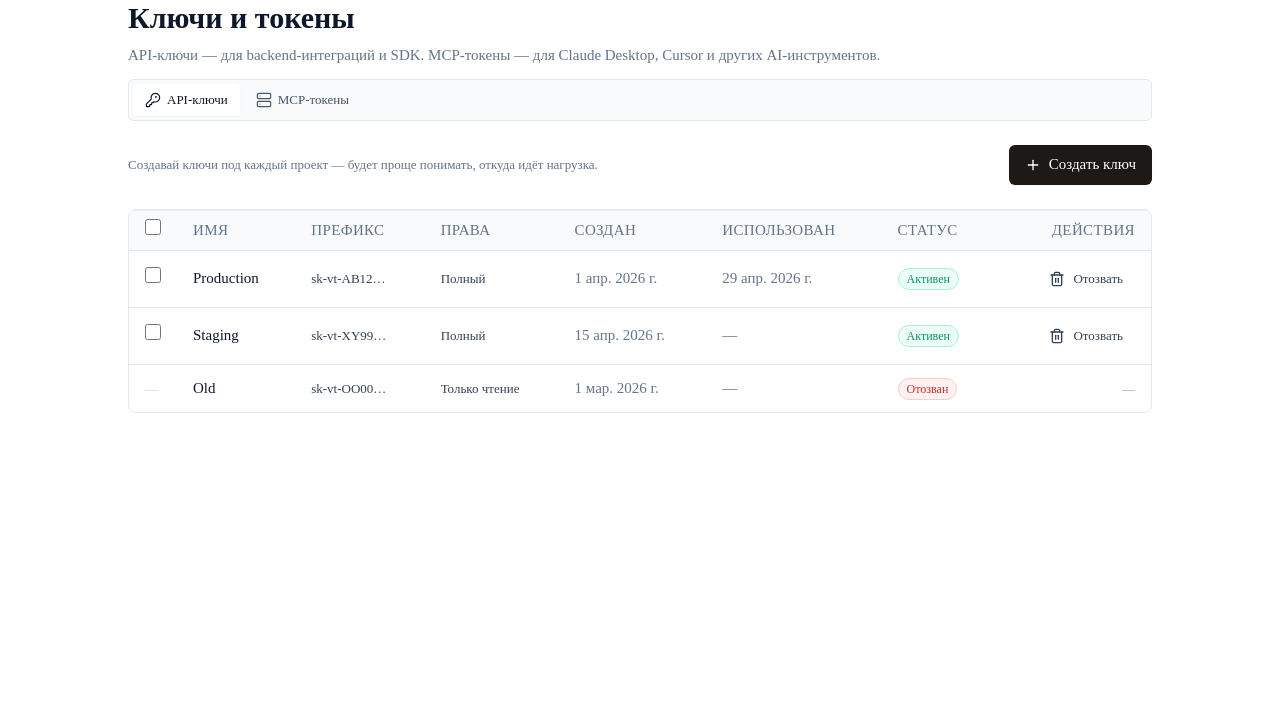
Test case: KeysPage bulk operations (Sprint 8) › rotate — confirm dialog с другим текстом
This screenshot has width=1280, height=720.
Click the checkbox with test id "select-key-k-1". click: (153, 275)
box: [145, 267, 161, 283]
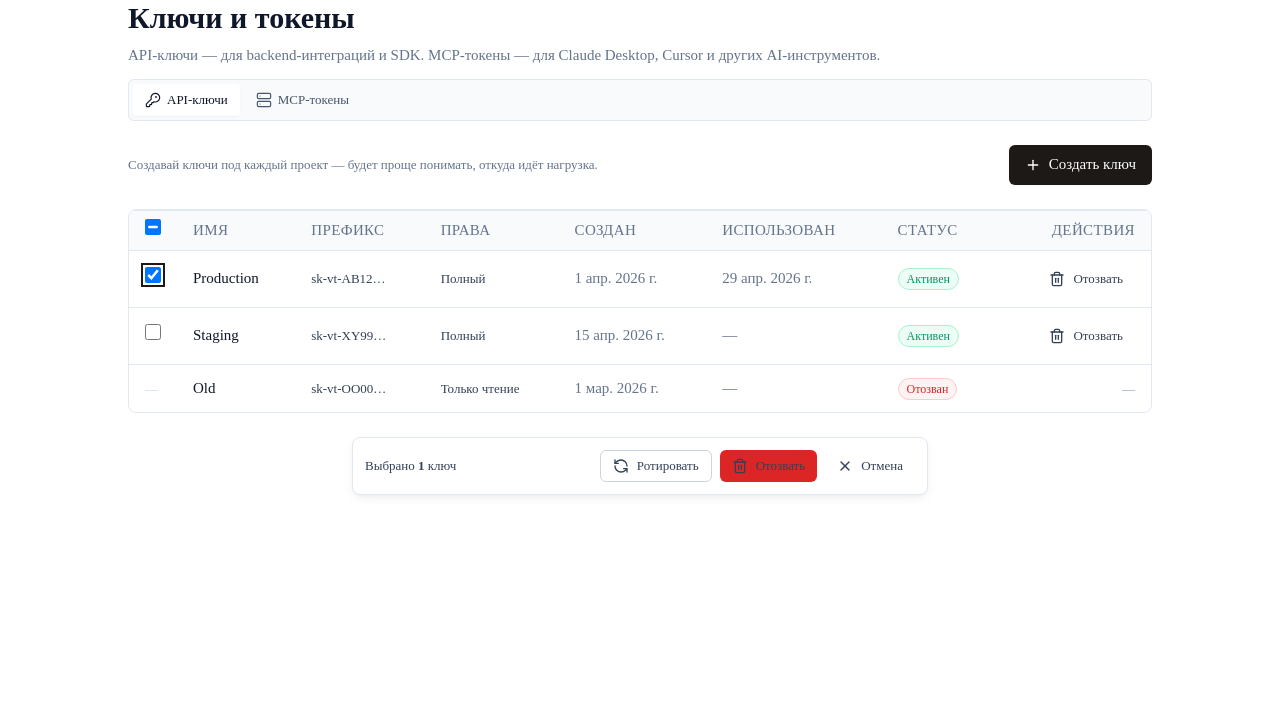
Click the button with test id "bulk-rotate". click: (656, 466)
box: [600, 450, 712, 482]
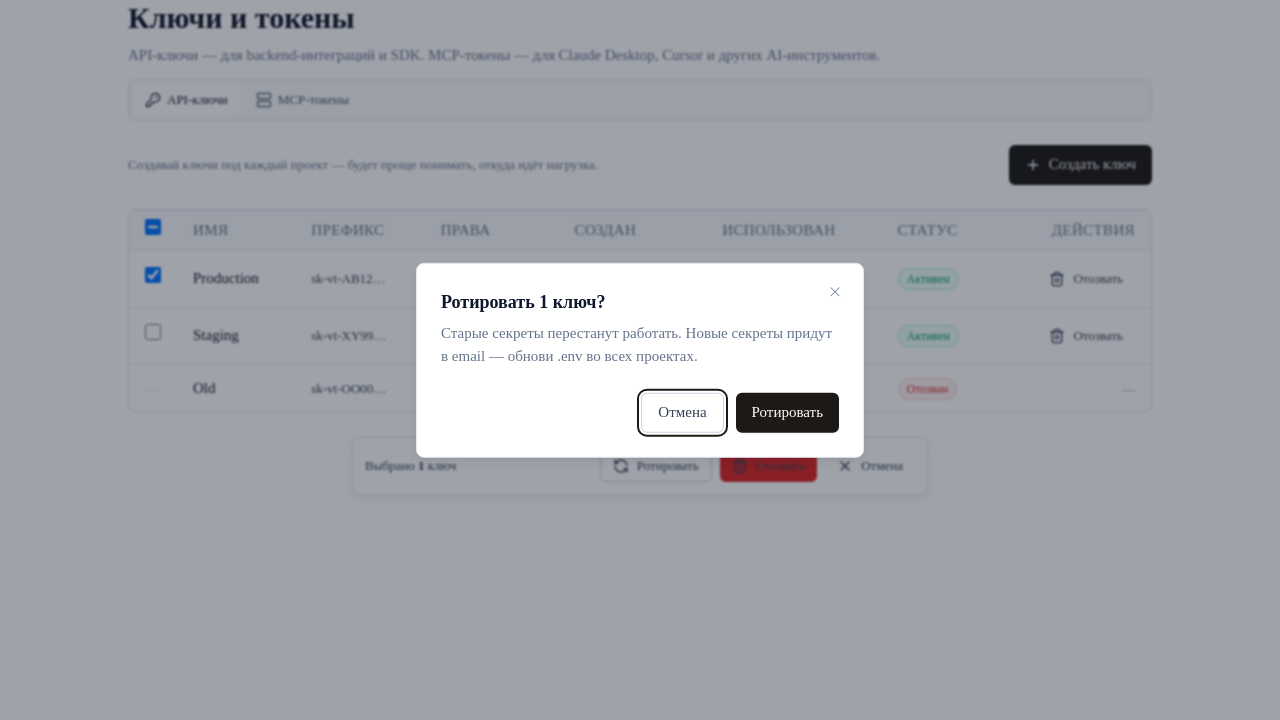
Expected: the heading "Ротировать 1 ключ?" is shown, [441, 292, 605, 312]
Expected: the text "обнови .env" is shown, [441, 325, 832, 364]
